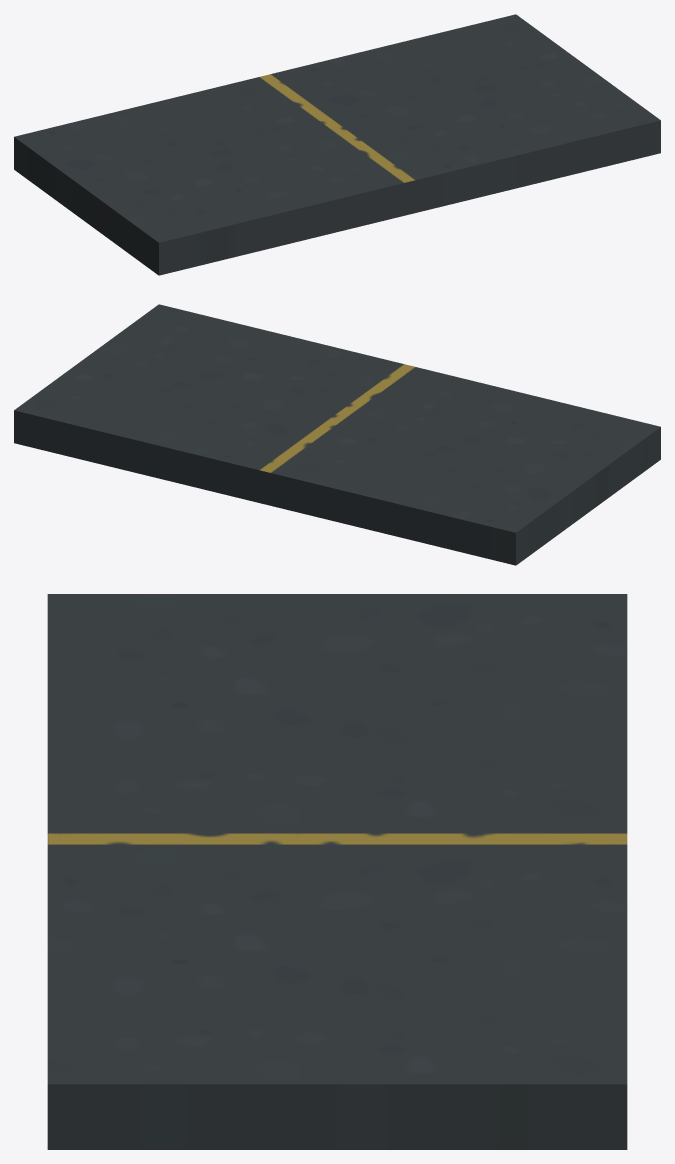
File: Asphalt_D.fbx
3 views of the same model, one above another, from view 1: azimuth 30°, elevation 25°; view 2: azimuth 150°, elevation 25°; view 3: azimuth 270°, elevation 25° (orthographic). The views are drawn at different scales.
Parts seen in each view (by area): view 1: Asphalt_D; view 2: Asphalt_D; view 3: Asphalt_D.
Boxes of the visible parts, left/top/right/bottom form: Asphalt_D: left=14, top=14, right=660, bottom=275; Asphalt_D: left=14, top=304, right=660, bottom=565; Asphalt_D: left=47, top=594, right=627, bottom=1149.
Bounding box in the file's own units: 800 × 50 × 400.
